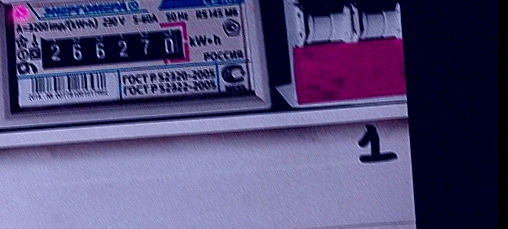0: (160, 35, 174, 53)
2: (46, 41, 60, 60), (114, 37, 127, 56)
6: (92, 40, 105, 59), (69, 41, 82, 59)
7: (137, 36, 150, 54)
screen: (28, 16, 194, 77)
